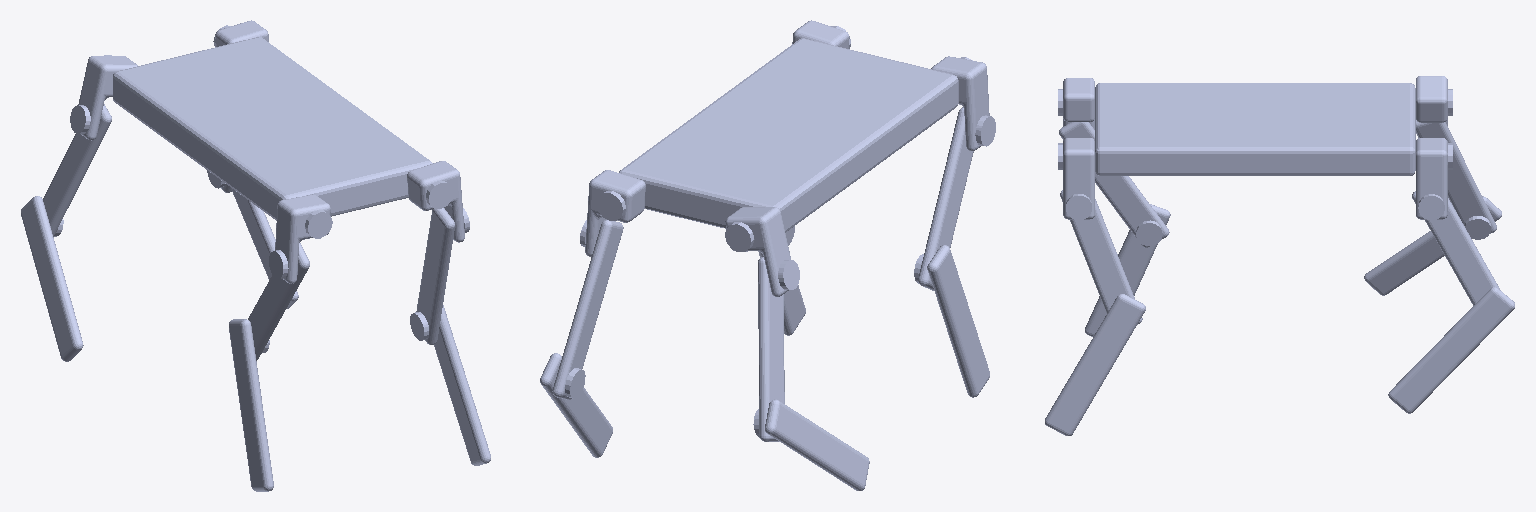
The robot description file, URDF, robot "FourStickedBody":
<?xml version="1.0" encoding="utf-8"?>
<!-- This URDF was automatically created by SolidWorks to URDF Exporter! Originally created by [author] ([email redacted]) 
     Commit Version: 1.6.0-4-g7f85cfe  Build Version: 1.6.7995.38578
     For more information, please see http://wiki.ros.org/sw_urdf_exporter -->
<robot
  name="FourStickedBody">
  <link
    name="base_link">
    <inertial>
      <origin
        xyz="-0.0572875426150859 -0.0801766144577414 -0.125023667269852"
        rpy="0 0 0" />
      <mass
        value="1.37088974358268" />
      <inertia
        ixx="0.0110007758484815"
        ixy="6.30725217071683E-21"
        ixz="-4.56603698129271E-19"
        iyy="0.0135005634933447"
        iyz="1.35450825305558E-19"
        izz="0.00269988156811165" />
    </inertial>
    <visual>
      <origin
        xyz="0 0 0"
        rpy="0 0 0" />
      <geometry>
        <mesh
          filename="package://FourStickedBody/meshes/base_link.STL" />
      </geometry>
      <material
        name="">
        <color
          rgba="0.792156862745098 0.819607843137255 0.933333333333333 1" />
      </material>
    </visual>
    <collision>
      <origin
        xyz="0 0 0"
        rpy="0 0 0" />
      <geometry>
        <mesh
          filename="package://FourStickedBody/meshes/base_link.STL" />
      </geometry>
    </collision>
  </link>
  <link
    name="FLShoulder">
    <inertial>
      <origin
        xyz="-0.00802562474482291 -0.00937838395684484 -0.0150000041413501"
        rpy="0 0 0" />
      <mass
        value="0.0380904123808196" />
      <inertia
        ixx="8.22818106409756E-06"
        ixy="-3.24120160645022E-06"
        ixz="5.24378206058208E-12"
        iyy="1.39259945891085E-05"
        iyz="3.02596913848168E-13"
        izz="1.67443920898861E-05" />
    </inertial>
    <visual>
      <origin
        xyz="0 0 0"
        rpy="0 0 0" />
      <geometry>
        <mesh
          filename="package://FourStickedBody/meshes/FLShoulder.STL" />
      </geometry>
      <material
        name="">
        <color
          rgba="0.792156862745098 0.819607843137255 0.933333333333333 1" />
      </material>
    </visual>
    <collision>
      <origin
        xyz="0 0 0"
        rpy="0 0 0" />
      <geometry>
        <mesh
          filename="package://FourStickedBody/meshes/FLShoulder.STL" />
      </geometry>
    </collision>
  </link>
  <joint
    name="FLShoulder"
    type="revolute">
    <origin
      xyz="-0.11729 -0.024976 -0.080177"
      rpy="-1.5708 -1.5146 0" />
    <parent
      link="base_link" />
    <child
      link="FLShoulder" />
      <limit effort="1000.0" lower="-0.38" upper="0" velocity="0.5"/>
    <axis
      xyz="0 0 -1" />
  </joint>
  <link
    name="FLUpper">
    <inertial>
      <origin
        xyz="-1.38777878078145E-17 0.0517481888371821 0.00631330305514961"
        rpy="0 0 0" />
      <mass
        value="0.0435443386505745" />
      <inertia
        ixx="8.17019889821495E-05"
        ixy="8.0256371752345E-20"
        ixz="3.46355763211349E-22"
        iyy="3.95469594018177E-06"
        iyz="3.13712635017228E-06"
        izz="8.3329545582726E-05" />
    </inertial>
    <visual>
      <origin
        xyz="0 0 0"
        rpy="0 0 0" />
      <geometry>
        <mesh
          filename="package://FourStickedBody/meshes/FLUpper.STL" />
      </geometry>
      <material
        name="">
        <color
          rgba="0.792156862745098 0.819607843137255 0.933333333333333 1" />
      </material>
    </visual>
    <collision>
      <origin
        xyz="0 0 0"
        rpy="0 0 0" />
      <geometry>
        <mesh
          filename="package://FourStickedBody/meshes/FLUpper.STL" />
      </geometry>
    </collision>
  </link>
  <joint
    name="FLUpper"
    type="revolute">
    <origin
      xyz="-0.04 -0.00507890825442417 -0.015"
      rpy="1.5707963267949 -0.990481798126781 0" />
    <parent
      link="FLShoulder" />
    <child
      link="FLUpper" />
      <limit effort="1000.0" lower="-0.38" upper="0" velocity="0.5"/>

    <axis
      xyz="0 0 1" />
  </joint>
  <link
    name="FLLower">
    <inertial>
      <origin
        xyz="1.38777878078145E-17 -0.0498758392155302 0.013583176614747"
        rpy="0 0 0" />
      <mass
        value="0.0453114845182188" />
      <inertia
        ixx="8.74545044586466E-05"
        ixy="4.31986803099693E-20"
        ixz="-4.96458509177453E-21"
        iyy="3.99756423744962E-06"
        iyz="3.02361904746636E-06"
        izz="8.90888937394829E-05" />
    </inertial>
    <visual>
      <origin
        xyz="0 0 0"
        rpy="0 0 0" />
      <geometry>
        <mesh
          filename="package://FourStickedBody/meshes/FLLower.STL" />
      </geometry>
      <material
        name="">
        <color
          rgba="0.792156862745098 0.819607843137255 0.933333333333333 1" />
      </material>
    </visual>
    <collision>
      <origin
        xyz="0 0 0"
        rpy="0 0 0" />
      <geometry>
        <mesh
          filename="package://FourStickedBody/meshes/FLLower.STL" />
      </geometry>
    </collision>
  </link>
  <joint
    name="FLLower"
    type="revolute">
    <origin
      xyz="0 0.12 0"
      rpy="0 0 -2.181" />
    <parent
      link="FLUpper" />
    <child
      link="FLLower" />
      <limit effort="1000.0" lower="-0.38" upper="0" velocity="0.5"/>

    <axis
      xyz="0 0 -1" />
  </joint>
  <link
    name="FRShoulder">
    <inertial>
      <origin
        xyz="-0.0080256 -0.0093784 0.015"
        rpy="0 0 0" />
      <mass
        value="0.03809" />
      <inertia
        ixx="8.2282E-06"
        ixy="-3.2412E-06"
        ixz="5.4265E-12"
        iyy="1.3926E-05"
        iyz="2.6277E-13"
        izz="1.6744E-05" />
    </inertial>
    <visual>
      <origin
        xyz="0 0 0"
        rpy="0 0 0" />
      <geometry>
        <mesh
          filename="package://FourStickedBody/meshes/FRShoulder.STL" />
      </geometry>
      <material
        name="">
        <color
          rgba="0.79216 0.81961 0.93333 1" />
      </material>
    </visual>
    <collision>
      <origin
        xyz="0 0 0"
        rpy="0 0 0" />
      <geometry>
        <mesh
          filename="package://FourStickedBody/meshes/FRShoulder.STL" />
      </geometry>
    </collision>
  </link>
  <joint
    name="FRShoulder"
    type="revolute">
    <origin
      xyz="0.0027125 -0.024976 -0.080177"
      rpy="-1.5708 -1.4926 3.1416" />
    <parent
      link="base_link" />
    <child
      link="FRShoulder" />
      <limit effort="1000.0" lower="-0.38" upper="0" velocity="0.5"/>

    <axis
      xyz="0 0 1" />
  </joint>
  <link
    name="FRUpper">
    <inertial>
      <origin
        xyz="0 0.051748188837182 0.0181615498230934"
        rpy="0 0 0" />
      <mass
        value="0.0435443386505745" />
      <inertia
        ixx="8.17019889821495E-05"
        ixy="-2.77403290225783E-20"
        ixz="2.67176156494147E-21"
        iyy="3.95469594018179E-06"
        iyz="3.13712635017226E-06"
        izz="8.33295455827261E-05" />
    </inertial>
    <visual>
      <origin
        xyz="0 0 0"
        rpy="0 0 0" />
      <geometry>
        <mesh
          filename="package://FourStickedBody/meshes/FRUpper.STL" />
      </geometry>
      <material
        name="">
        <color
          rgba="0.792156862745098 0.819607843137255 0.933333333333333 1" />
      </material>
    </visual>
    <collision>
      <origin
        xyz="0 0 0"
        rpy="0 0 0" />
      <geometry>
        <mesh
          filename="package://FourStickedBody/meshes/FRUpper.STL" />
      </geometry>
    </collision>
  </link>
  <joint
    name="FRUpper"
    type="revolute">
    <origin
      xyz="-0.04 0.00676933851351959 0.015"
      rpy="-1.5707963267949 -1.21616154826317 -3.14159265358979" />
    <parent
      link="FRShoulder" />
    <child
      link="FRUpper" />
      <limit effort="1000.0" lower="-0.38" upper="0" velocity="0.5"/>

    <axis
      xyz="0 0 1" />
  </joint>
  <link
    name="FRLower">
    <inertial>
      <origin
        xyz="0 -0.0498758392155302 0.0300232487438312"
        rpy="0 0 0" />
      <mass
        value="0.0453114845182188" />
      <inertia
        ixx="8.74545044586465E-05"
        ixy="-6.16216469127503E-20"
        ixz="1.4222588364364E-21"
        iyy="3.99756423744963E-06"
        iyz="3.02361904746645E-06"
        izz="8.90888937394827E-05" />
    </inertial>
    <visual>
      <origin
        xyz="0 0 0"
        rpy="0 0 0" />
      <geometry>
        <mesh
          filename="package://FourStickedBody/meshes/FRLower.STL" />
      </geometry>
      <material
        name="">
        <color
          rgba="0.792156862745098 0.819607843137255 0.933333333333333 1" />
      </material>
    </visual>
    <collision>
      <origin
        xyz="0 0 0"
        rpy="0 0 0" />
      <geometry>
        <mesh
          filename="package://FourStickedBody/meshes/FRLower.STL" />
      </geometry>
    </collision>
  </link>
  <joint
    name="FRLower"
    type="revolute">
    <origin
      xyz="0 0.12 -0.00459182536114035"
      rpy="0 0 2.28311065724853" />
    <parent
      link="FRUpper" />
    <child
      link="FRLower" />
      <limit effort="1000.0" lower="-0.38" upper="0" velocity="0.5"/>

    <axis
      xyz="0 0 -1" />
  </joint>
  <link
    name="BLShoulder">
    <inertial>
      <origin
        xyz="-0.00802562794245548 -0.00937838212341552 0.0149999995569143"
        rpy="0 0 0" />
      <mass
        value="0.0380904173619555" />
      <inertia
        ixx="8.22818141301055E-06"
        ixy="-3.24120085791354E-06"
        ixz="6.40681352299785E-12"
        iyy="1.39259975911142E-05"
        iyz="-2.15471813802222E-14"
        izz="1.67443958034683E-05" />
    </inertial>
    <visual>
      <origin
        xyz="0 0 0"
        rpy="0 0 0" />
      <geometry>
        <mesh
          filename="package://FourStickedBody/meshes/BLShoulder.STL" />
      </geometry>
      <material
        name="">
        <color
          rgba="0.792156862745098 0.819607843137255 0.933333333333333 1" />
      </material>
    </visual>
    <collision>
      <origin
        xyz="0 0 0"
        rpy="0 0 0" />
      <geometry>
        <mesh
          filename="package://FourStickedBody/meshes/BLShoulder.STL" />
      </geometry>
    </collision>
  </link>
  <joint
    name="BLShoulder"
    type="revolute">
    <origin
      xyz="-0.11729 0.27502 -0.080177"
      rpy="-1.5708 -1.3344 0" />
    <parent
      link="base_link" />
    <child
      link="BLShoulder" />
      <limit effort="1000.0" lower="-0.38" upper="0" velocity="0.5"/>

    <axis
      xyz="0 0 1" />
  </joint>
  <link
    name="BLUpper">
    <inertial>
      <origin
        xyz="-1.1102E-16 0.051748 0.0050209"
        rpy="0 0 0" />
      <mass
        value="0.043544" />
      <inertia
        ixx="8.1702E-05"
        ixy="1.4643E-19"
        ixz="-8.32E-21"
        iyy="3.9547E-06"
        iyz="3.1371E-06"
        izz="8.333E-05" />
    </inertial>
    <visual>
      <origin
        xyz="0 0 0"
        rpy="0 0 0" />
      <geometry>
        <mesh
          filename="package://FourStickedBody/meshes/BLUpper.STL" />
      </geometry>
      <material
        name="">
        <color
          rgba="0.79216 0.81961 0.93333 1" />
      </material>
    </visual>
    <collision>
      <origin
        xyz="0 0 0"
        rpy="0 0 0" />
      <geometry>
        <mesh
          filename="package://FourStickedBody/meshes/BLUpper.STL" />
      </geometry>
    </collision>
  </link>
  <joint
    name="BLUpper"
    type="revolute">
    <origin
      xyz="-0.04 -0.00637134747104802 0.015"
      rpy="1.57079632679489 -1.20166853376716 0" />
    <parent
      link="BLShoulder" />
    <child
      link="BLUpper" />
      <limit effort="1000.0" lower="-0.38" upper="0" velocity="0.5"/>

    <axis
      xyz="0 0 1" />
  </joint>
  <link
    name="BLLower">
    <inertial>
      <origin
        xyz="-1.11022302462516E-16 -0.0498758392155301 0.0122907373981234"
        rpy="0 0 0" />
      <mass
        value="0.0453114845182188" />
      <inertia
        ixx="8.74545044586466E-05"
        ixy="-1.11808349037568E-19"
        ixz="3.94340252476676E-21"
        iyy="3.99756423744963E-06"
        iyz="3.0236190474665E-06"
        izz="8.90888937394828E-05" />
    </inertial>
    <visual>
      <origin
        xyz="0 0 0"
        rpy="0 0 0" />
      <geometry>
        <mesh
          filename="package://FourStickedBody/meshes/BLLower.STL" />
      </geometry>
      <material
        name="">
        <color
          rgba="0.792156862745098 0.819607843137255 0.933333333333333 1" />
      </material>
    </visual>
    <collision>
      <origin
        xyz="0 0 0"
        rpy="0 0 0" />
      <geometry>
        <mesh
          filename="package://FourStickedBody/meshes/BLLower.STL" />
      </geometry>
    </collision>
  </link>
  <joint
    name="BLLower"
    type="revolute">
    <origin
      xyz="0 0.12 0"
      rpy="0 0 -1.91007720746634" />
    <parent
      link="BLUpper" />
    <child
      link="BLLower" />
      <limit effort="1000.0" lower="-0.38" upper="0" velocity="0.5"/>

    <axis
      xyz="0 0 -1" />
  </joint>
  <link
    name="BRShoulder">
    <inertial>
      <origin
        xyz="-0.00802562482451437 -0.00937838389000736 -0.0150000039947057"
        rpy="0 0 0" />
      <mass
        value="0.0380904124897674" />
      <inertia
        ixx="8.22818107266218E-06"
        ixy="-3.241201577631E-06"
        ixz="5.29909363257654E-12"
        iyy="1.39259946630586E-05"
        iyz="2.90839140571192E-13"
        izz="1.67443921944249E-05" />
    </inertial>
    <visual>
      <origin
        xyz="0 0 0"
        rpy="0 0 0" />
      <geometry>
        <mesh
          filename="package://FourStickedBody/meshes/BRShoulder.STL" />
      </geometry>
      <material
        name="">
        <color
          rgba="0.792156862745098 0.819607843137255 0.933333333333333 1" />
      </material>
    </visual>
    <collision>
      <origin
        xyz="0 0 0"
        rpy="0 0 0" />
      <geometry>
        <mesh
          filename="package://FourStickedBody/meshes/BRShoulder.STL" />
      </geometry>
    </collision>
  </link>
  <joint
    name="BRShoulder"
    type="revolute">
    <origin
      xyz="0.00271245738491416 0.275023667269852 -0.0801766144577414"
      rpy="-1.5707963267949 -1.508060454758 3.14159265358979" />
    <parent
      link="base_link" />
    <child
      link="BRShoulder" />
      <limit effort="1000.0" lower="-0.38" upper="0" velocity="0.5"/>

    <axis
      xyz="0 0 -1" />
  </joint>
  <link
    name="BRUpper">
    <inertial>
      <origin
        xyz="1.3878E-16 0.051748 0.015569"
        rpy="0 0 0" />
      <mass
        value="0.043544" />
      <inertia
        ixx="8.1702E-05"
        ixy="-1.6845E-19"
        ixz="9.2613E-21"
        iyy="3.9547E-06"
        iyz="3.1371E-06"
        izz="8.333E-05" />
    </inertial>
    <visual>
      <origin
        xyz="0 0 0"
        rpy="0 0 0" />
      <geometry>
        <mesh
          filename="package://FourStickedBody/meshes/BRUpper.STL" />
      </geometry>
      <material
        name="">
        <color
          rgba="0.79216 0.81961 0.93333 1" />
      </material>
    </visual>
    <collision>
      <origin
        xyz="0 0 0"
        rpy="0 0 0" />
      <geometry>
        <mesh
          filename="package://FourStickedBody/meshes/BRUpper.STL" />
      </geometry>
    </collision>
  </link>
  <joint
    name="BRUpper"
    type="revolute">
    <origin
      xyz="-0.04 0.0041765 -0.015"
      rpy="-1.5708 -1.0851 3.1416" />
    <parent
      link="BRShoulder" />
    <child
      link="BRUpper" />
      <limit effort="1000.0" lower="-0.38" upper="0" velocity="0.5"/>

    <axis
      xyz="0 0 1" />
  </joint>
  <link
    name="BRLower">
    <inertial>
      <origin
        xyz="0.372621100730368 0.0921157613760128 0.0186620848691712"
        rpy="0 0 0" />
      <mass
        value="0.0453114845182188" />
      <inertia
        ixx="8.74545044586465E-05"
        ixy="-1.32984172718925E-19"
        ixz="3.98602770971858E-21"
        iyy="3.99756423744963E-06"
        iyz="3.02361904746642E-06"
        izz="8.90888937394826E-05" />
    </inertial>
    <visual>
      <origin
        xyz="0 0 0"
        rpy="0 0 0" />
      <geometry>
        <mesh
          filename="package://FourStickedBody/meshes/BRLower.STL" />
      </geometry>
      <material
        name="">
        <color
          rgba="0.792156862745098 0.819607843137255 0.933333333333333 1" />
      </material>
    </visual>
    <collision>
      <origin
        xyz="0 0 0"
        rpy="0 0 0" />
      <geometry>
        <mesh
          filename="package://FourStickedBody/meshes/BRLower.STL" />
      </geometry>
    </collision>
  </link>
  <joint
    name="BRLower"
    type="revolute">
    <origin
      xyz="0.259893147497077 -0.182429580616913 0.00417648565982762"
      rpy="0 0 1.9166197630552" />
    <parent
      link="BRUpper" />
    <child
      link="BRLower" />
      <limit effort="1000.0" lower="-0.38" upper="0" velocity="0.5"/>

    <axis
      xyz="0 0 -1" />
  </joint>
</robot>

--- Render facts (derived) ---
Views: 3 orthographic renders of the robot side by side, from view 1: azimuth 30°, elevation 25°; view 2: azimuth 150°, elevation 25°; view 3: azimuth 270°, elevation 25°.
Model FourStickedBody with 13 links and 12 joints (12 revolute), rooted at base_link, posed every joint at zero.
Links seen in each view (by area): view 1: base_link, BLLower, FLLower, FRLower, BLUpper, FRUpper, FLUpper, FLShoulder, BLShoulder, FRShoulder, BRLower, BRShoulder; view 2: base_link, FLLower, BLLower, BLUpper, BRUpper, FLUpper, BRLower, BLShoulder, FLShoulder, BRShoulder, FRShoulder, FRLower; view 3: base_link, BRLower, FRLower, BRUpper, FRUpper, BLLower, FLUpper, FLLower, BLUpper, FRShoulder, BRShoulder, BLShoulder (+1 smaller).
Link boxes in pixels (x1,y1,x2,y2): base_link: (104, 25, 453, 238); BLLower: (21, 196, 83, 361); FLLower: (229, 319, 273, 491); FRLower: (410, 305, 490, 465); BLUpper: (43, 104, 111, 236); FRUpper: (416, 208, 469, 344); FLUpper: (248, 243, 309, 360); FLShoulder: (275, 194, 330, 283); BLShoulder: (78, 56, 137, 140); FRShoulder: (407, 161, 464, 242); BRLower: (207, 170, 298, 308); BRShoulder: (215, 20, 268, 46); base_link: (597, 26, 972, 251); FLLower: (914, 245, 989, 397); BLLower: (753, 399, 869, 490); BLUpper: (758, 257, 799, 441); BRUpper: (552, 220, 623, 399); FLUpper: (918, 107, 995, 290); BRLower: (540, 353, 612, 457); BLShoulder: (725, 207, 790, 296); FLShoulder: (931, 56, 989, 150); BRShoulder: (585, 170, 645, 256); FRShoulder: (792, 20, 849, 48); FRLower: (759, 226, 805, 335); base_link: (1058, 83, 1452, 175); BRLower: (1388, 287, 1514, 413); FRLower: (1045, 294, 1145, 435); BRUpper: (1412, 191, 1499, 305); FRUpper: (1060, 190, 1142, 324); BLLower: (1364, 196, 1501, 295); FLUpper: (1059, 122, 1169, 247); FLLower: (1085, 204, 1170, 336); BLUpper: (1416, 120, 1496, 233); FRShoulder: (1063, 138, 1094, 219); BRShoulder: (1416, 138, 1447, 219); BLShoulder: (1416, 76, 1447, 125).
Bounding box of the posed robot: 0.2465 × 0.4409 × 0.2888 m (x, y, z).
13 mesh visuals loaded from 13 distinct referenced files (13 binary STL).